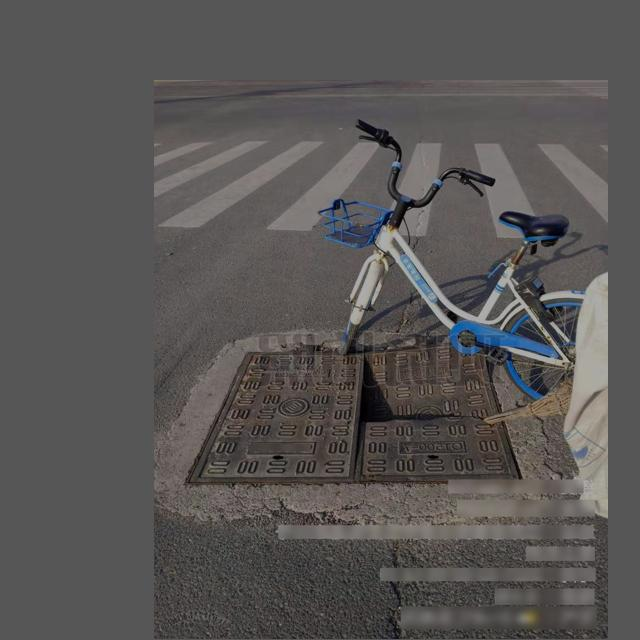broke: (184, 339, 526, 486)
